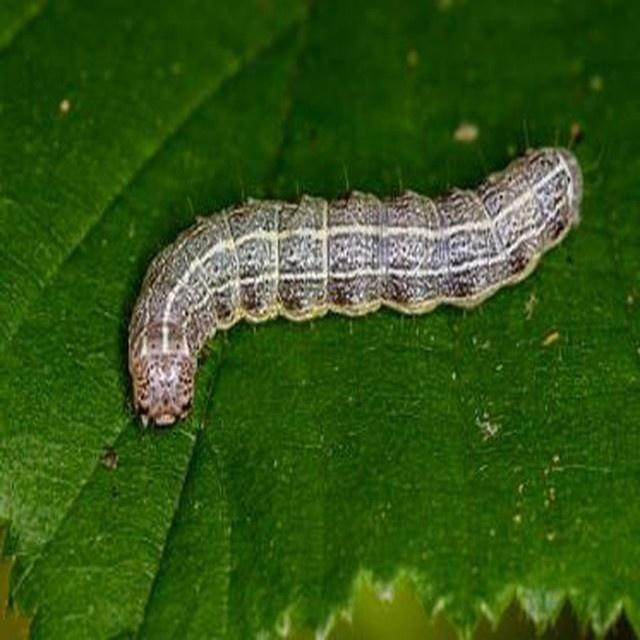gusano_cogollero: (122, 128, 588, 433)
